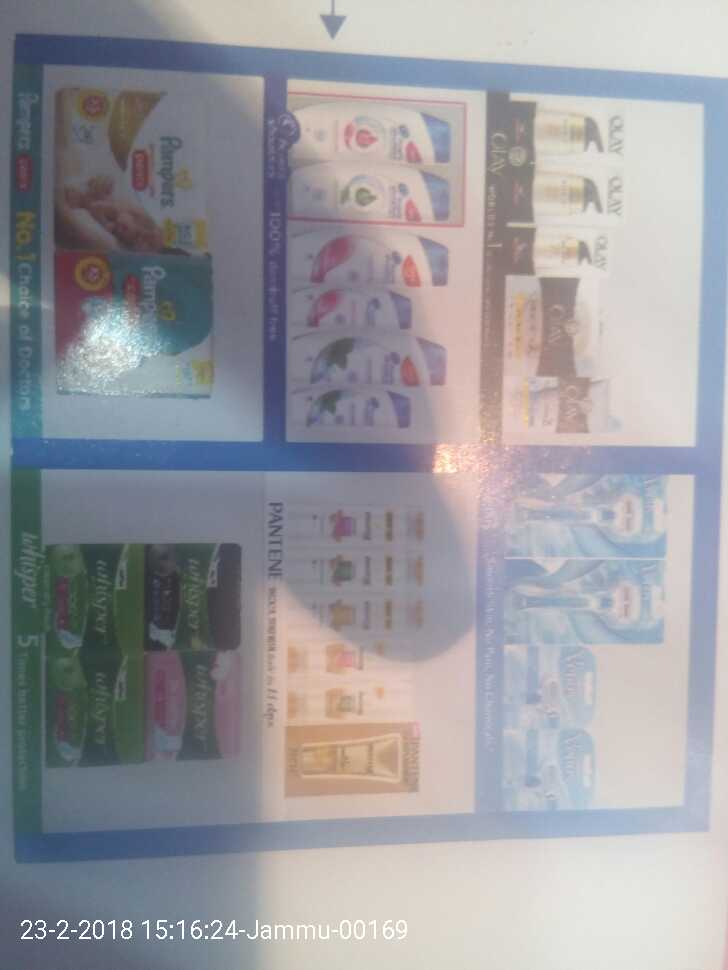venus: (495, 556, 667, 643), (495, 475, 674, 556), (505, 721, 592, 811), (505, 653, 597, 721)
